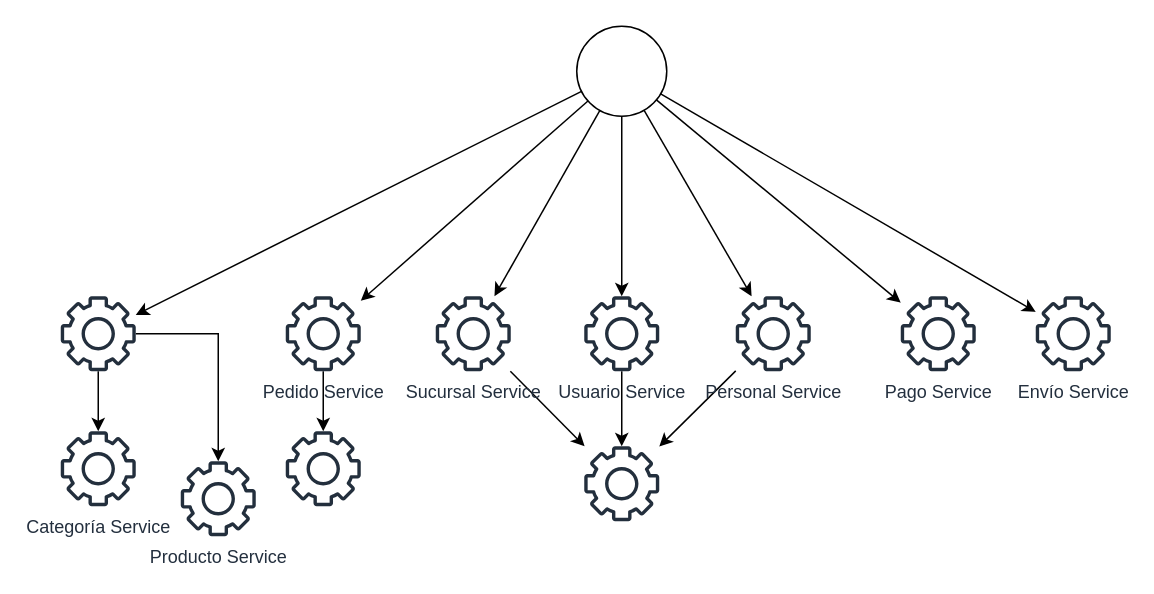
This 1154x594 diagram has some shape labels left out. Here are the shapes that lost their labels. From the top down, the box of each, then its label:
(575, 25, 667, 116): Api gateway
(60, 296, 135, 370): Inventario Service
(285, 430, 360, 506): Banco Service
(584, 446, 658, 520): Dirección Service
